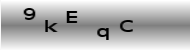9: (22, 6, 37, 21)
C: (119, 19, 135, 33)
E: (65, 9, 80, 26)
k: (45, 18, 59, 34)
q: (96, 27, 111, 41)
